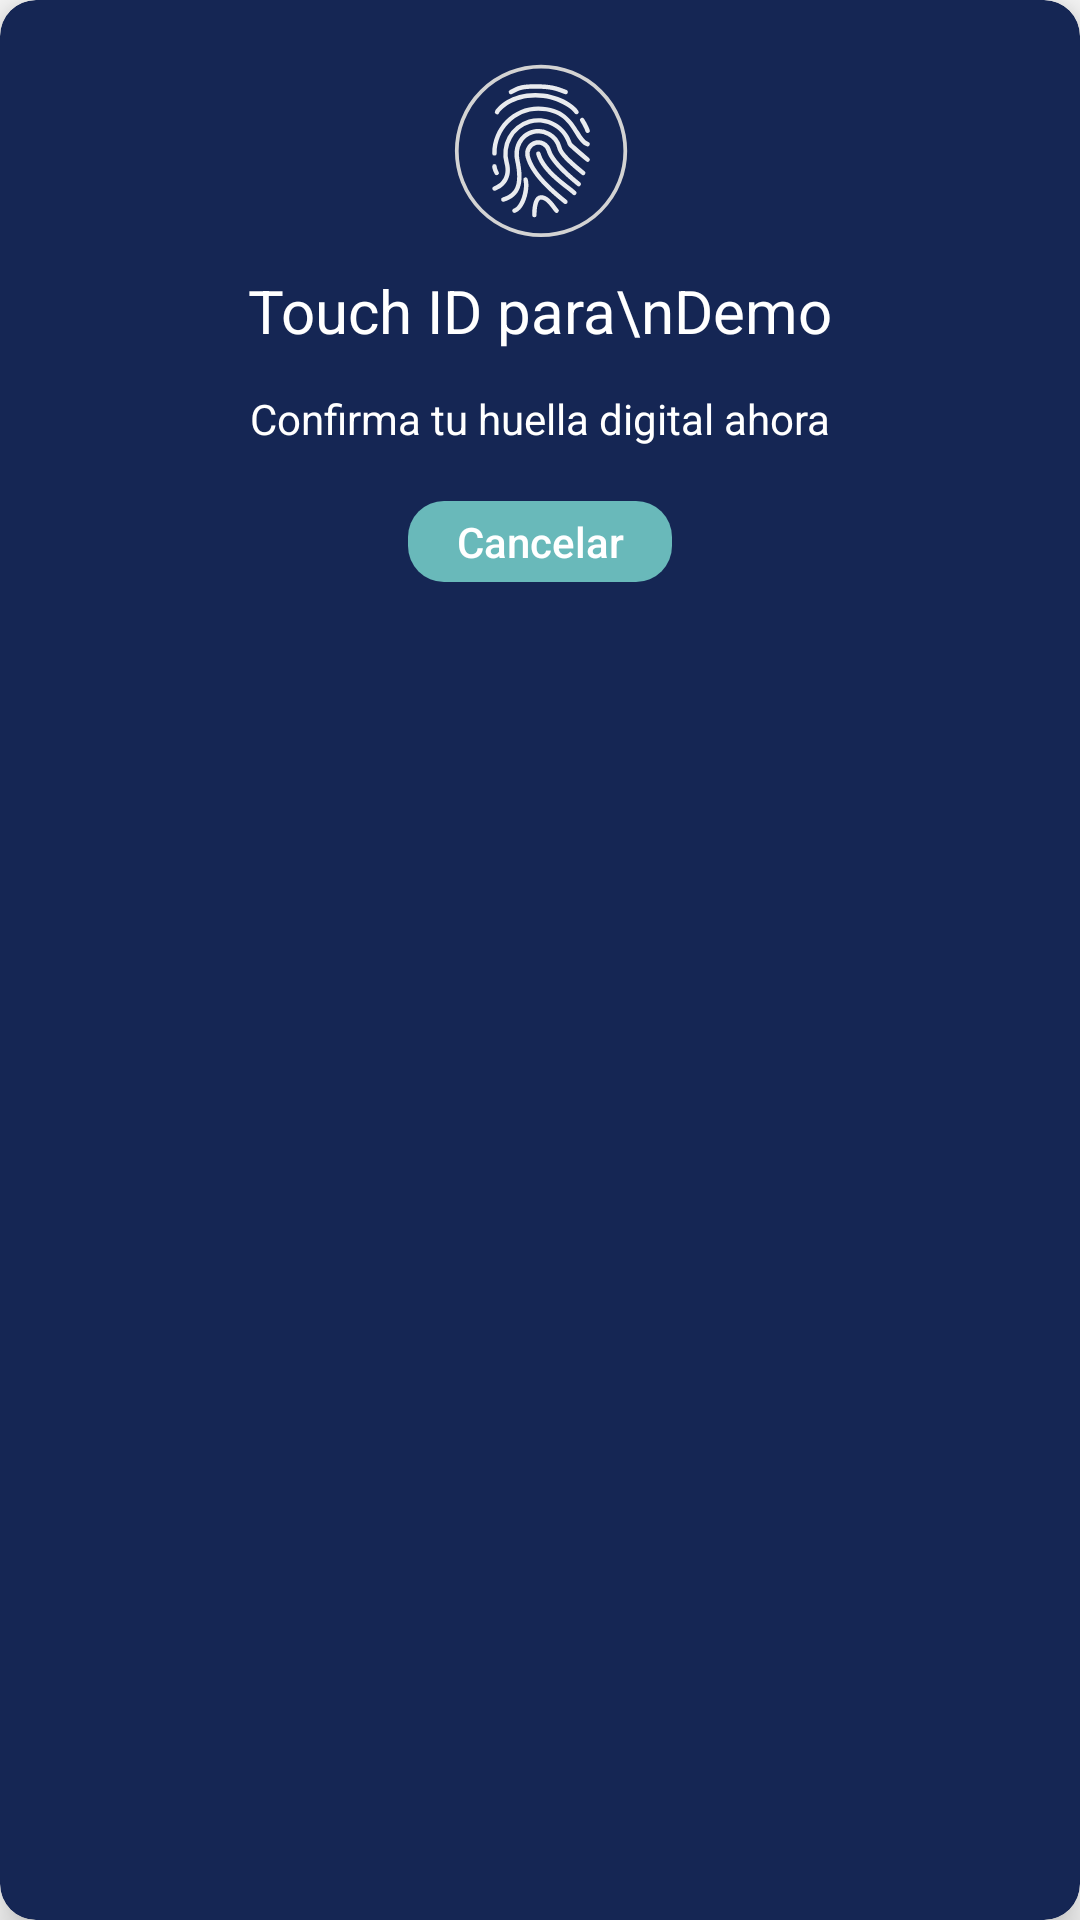

Named icons in this screenshot (1080x1920) and their bounding boxes, bbox(x1, y1, x2, y2):
fingerprint: bbox(455, 64, 628, 237)
